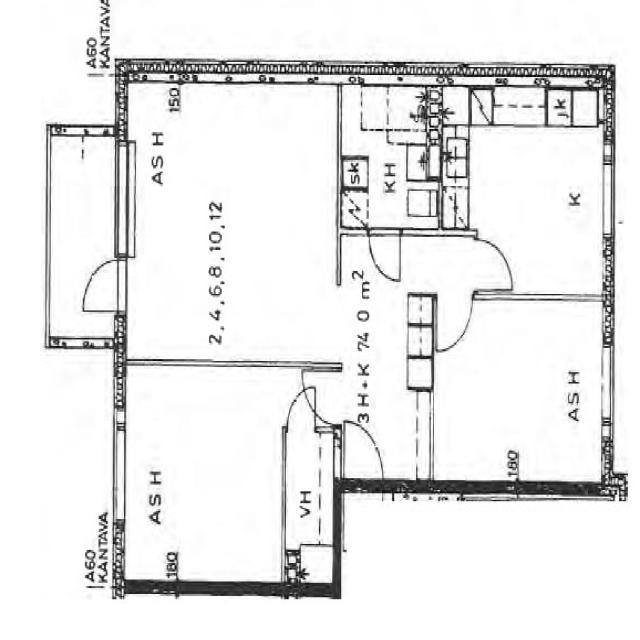door: (79, 254, 123, 320), (341, 417, 384, 482), (475, 231, 515, 292), (436, 294, 474, 356), (368, 226, 403, 284), (286, 387, 318, 437)
window: (108, 377, 130, 530), (107, 137, 134, 259), (597, 338, 619, 436), (598, 150, 618, 240)
zone: (119, 365, 285, 588), (433, 298, 609, 489), (462, 107, 614, 298), (46, 124, 120, 346), (342, 82, 438, 230)
